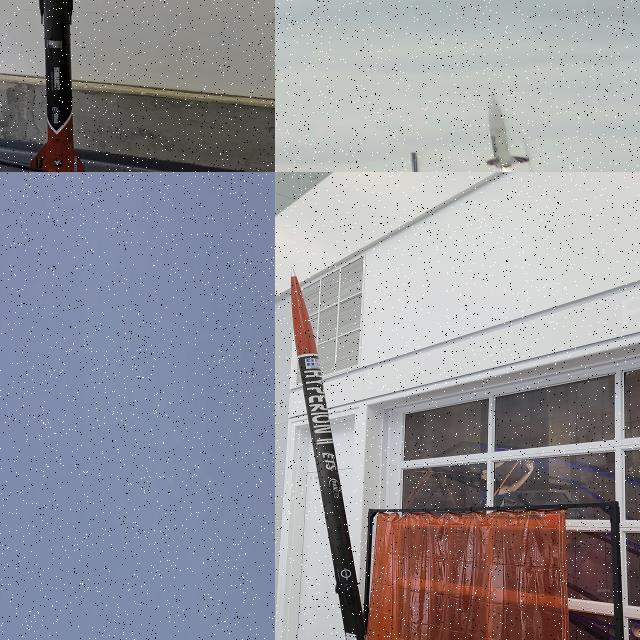Rocket: (291, 267, 367, 640), (30, 0, 85, 172), (484, 92, 530, 169)
